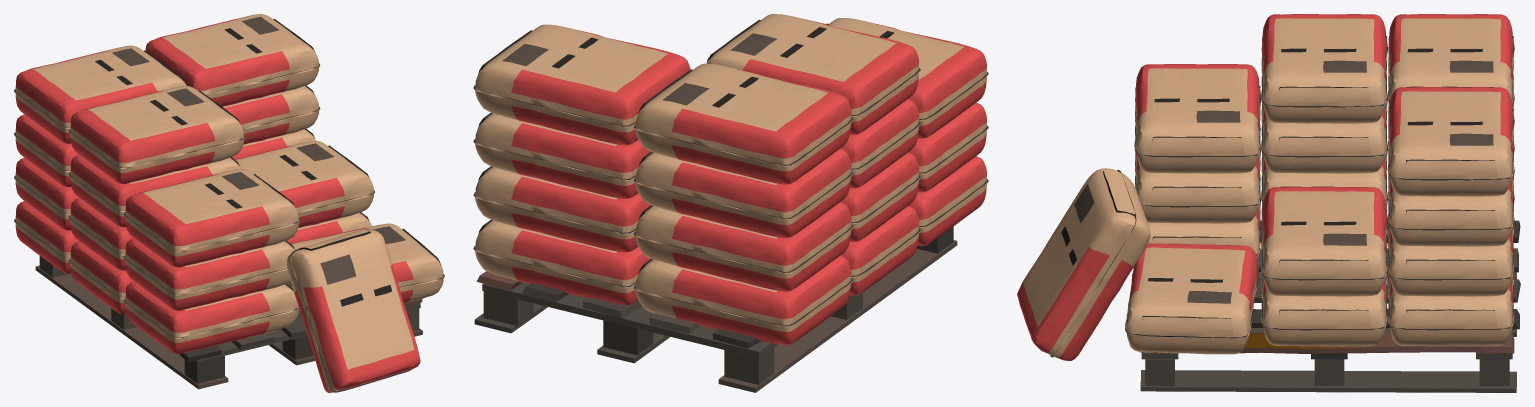
Rendered from SM_PalletteCementBags_B_D.fbx.
The picture shows the model from 3 angles, left to right: view 1: azimuth 30°, elevation 25°; view 2: azimuth 150°, elevation 25°; view 3: azimuth 270°, elevation 25°; orthographic projection. The views are drawn at different scales.
Parts seen in each view (by area): view 1: SM_PalletteCementBags_B_D; view 2: SM_PalletteCementBags_B_D; view 3: SM_PalletteCementBags_B_D.
Part boxes in pixels (<box>): SM_PalletteCementBags_B_D: <box>14,14,444,392</box>; SM_PalletteCementBags_B_D: <box>473,14,988,392</box>; SM_PalletteCementBags_B_D: <box>1017,14,1520,392</box>.
Size of the model in its own units: 120 by 87.81 by 165.
